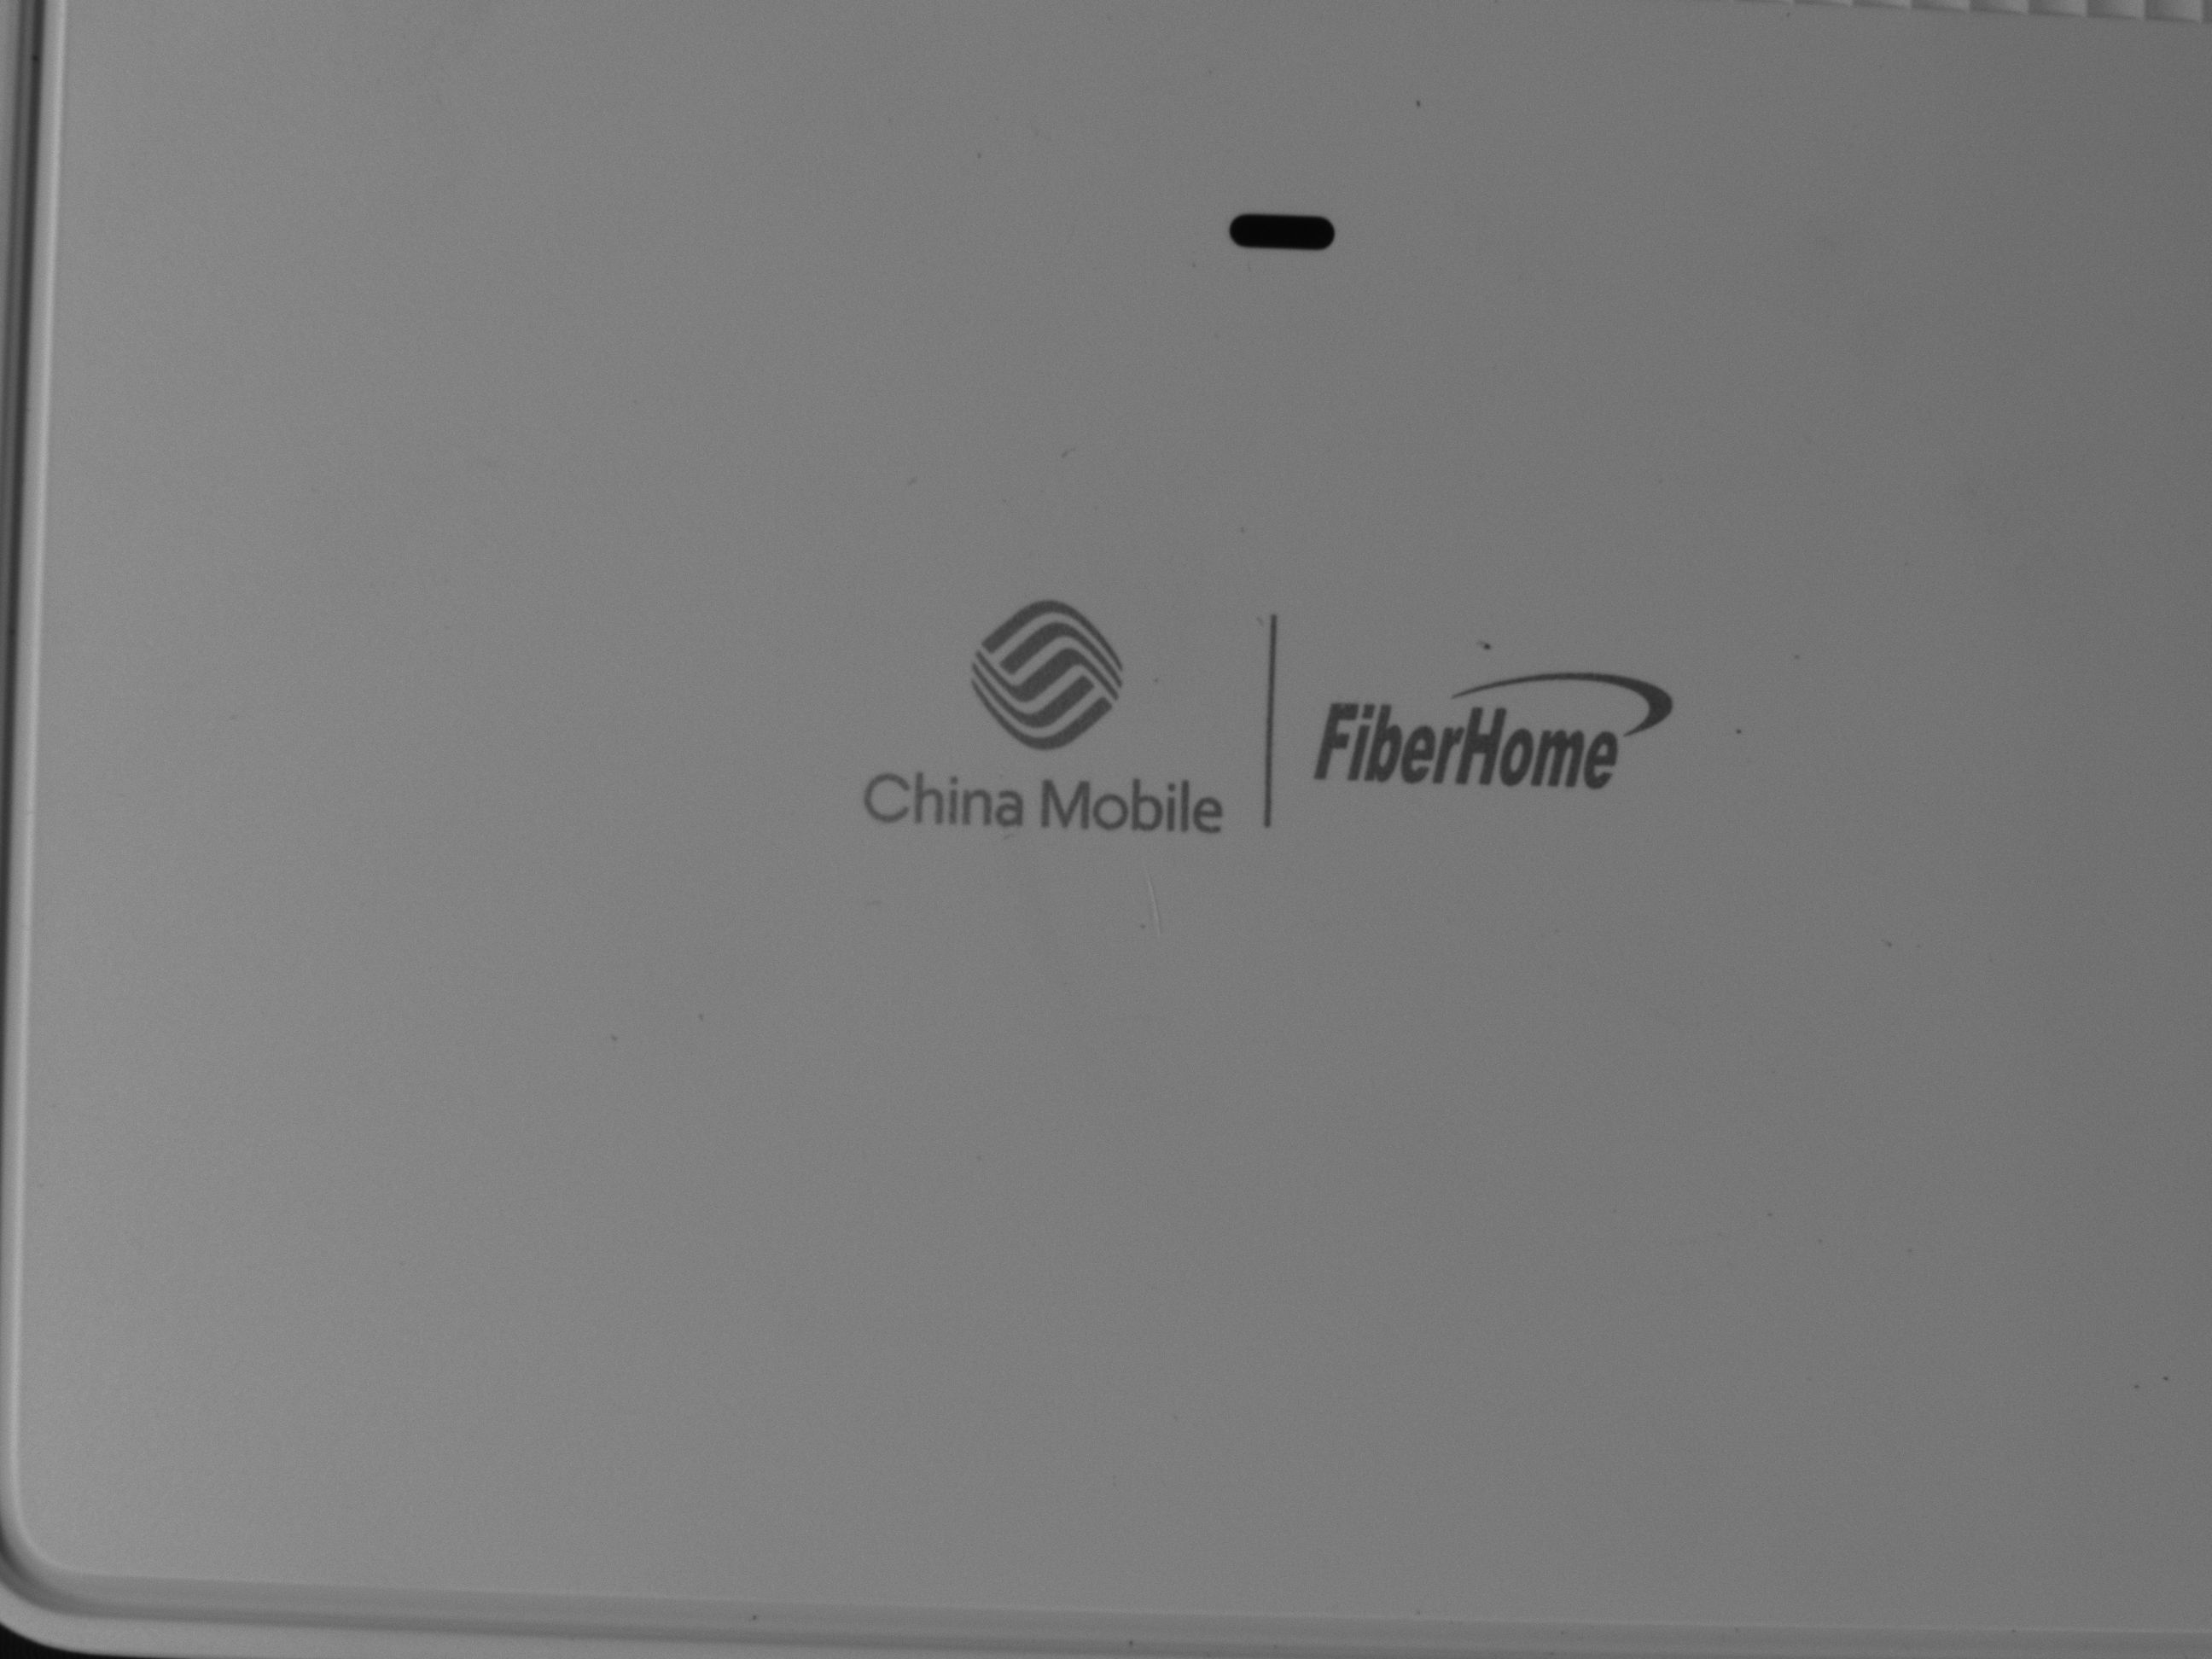BX_HG6371FMobileFiberhome: (836, 561, 1679, 847)
